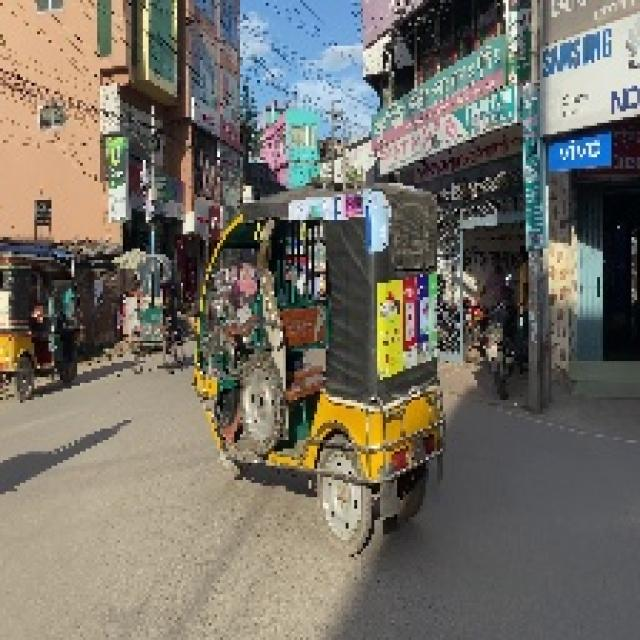rickshaw: (199, 175, 442, 538), (2, 236, 86, 396), (129, 237, 179, 387)
